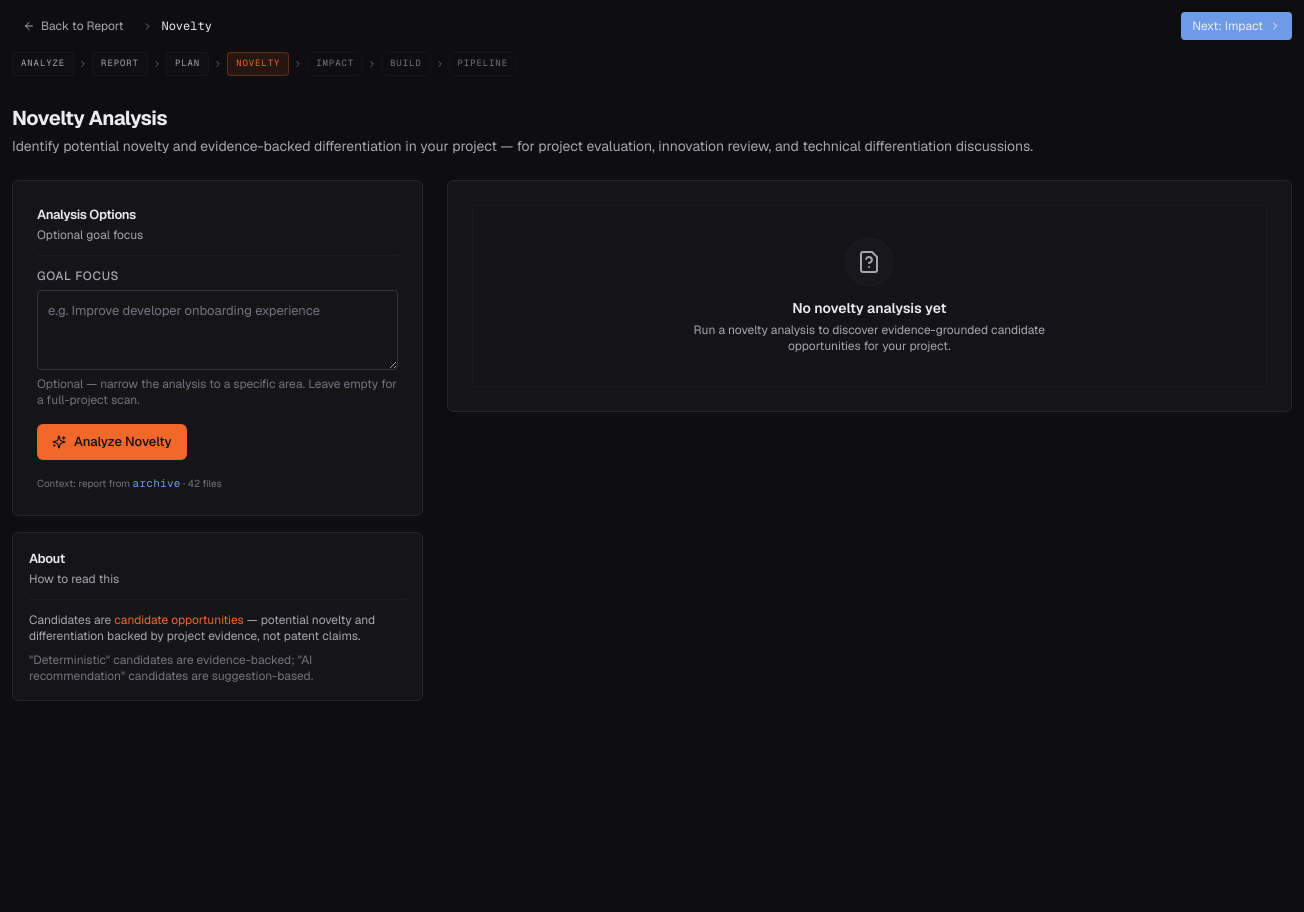
Novelty workflow › shows a loading state while analyzing
Click the button "Analyze Novelty" at (112, 442), box [37,424,187,460]
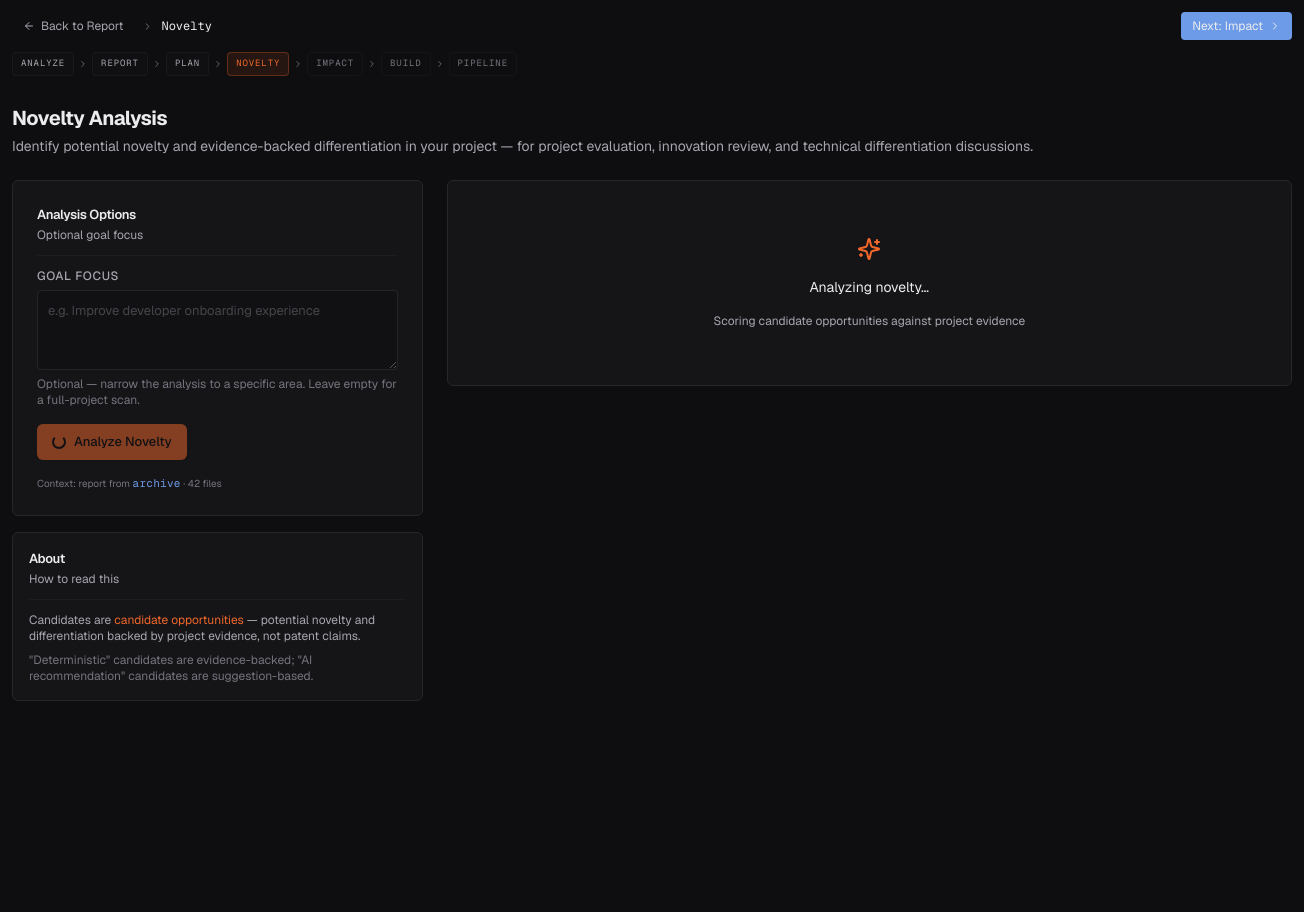
Expected: the text "Analyzing novelty…" is shown, [810,276,929,296]
